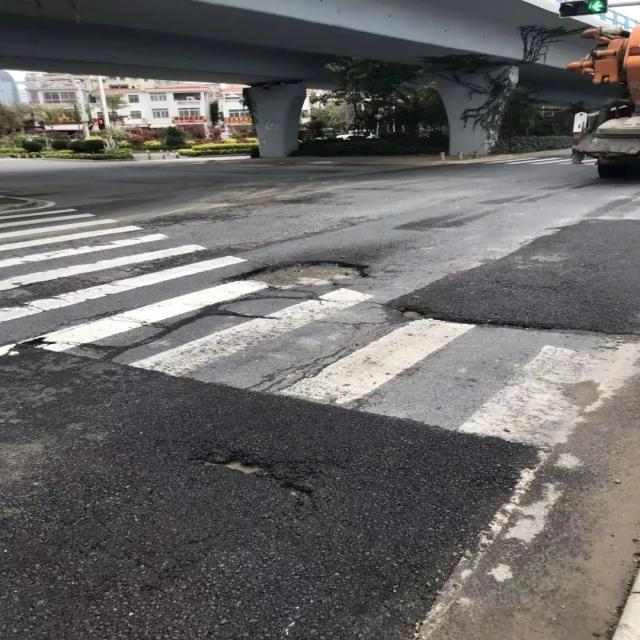pothole: (191, 447, 310, 494), (230, 256, 373, 288), (387, 301, 435, 325)
